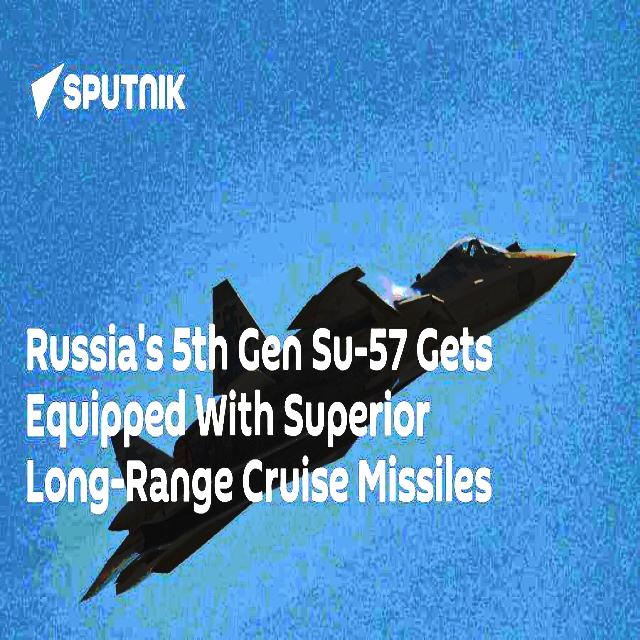Aircraft: (28, 233, 590, 603)
